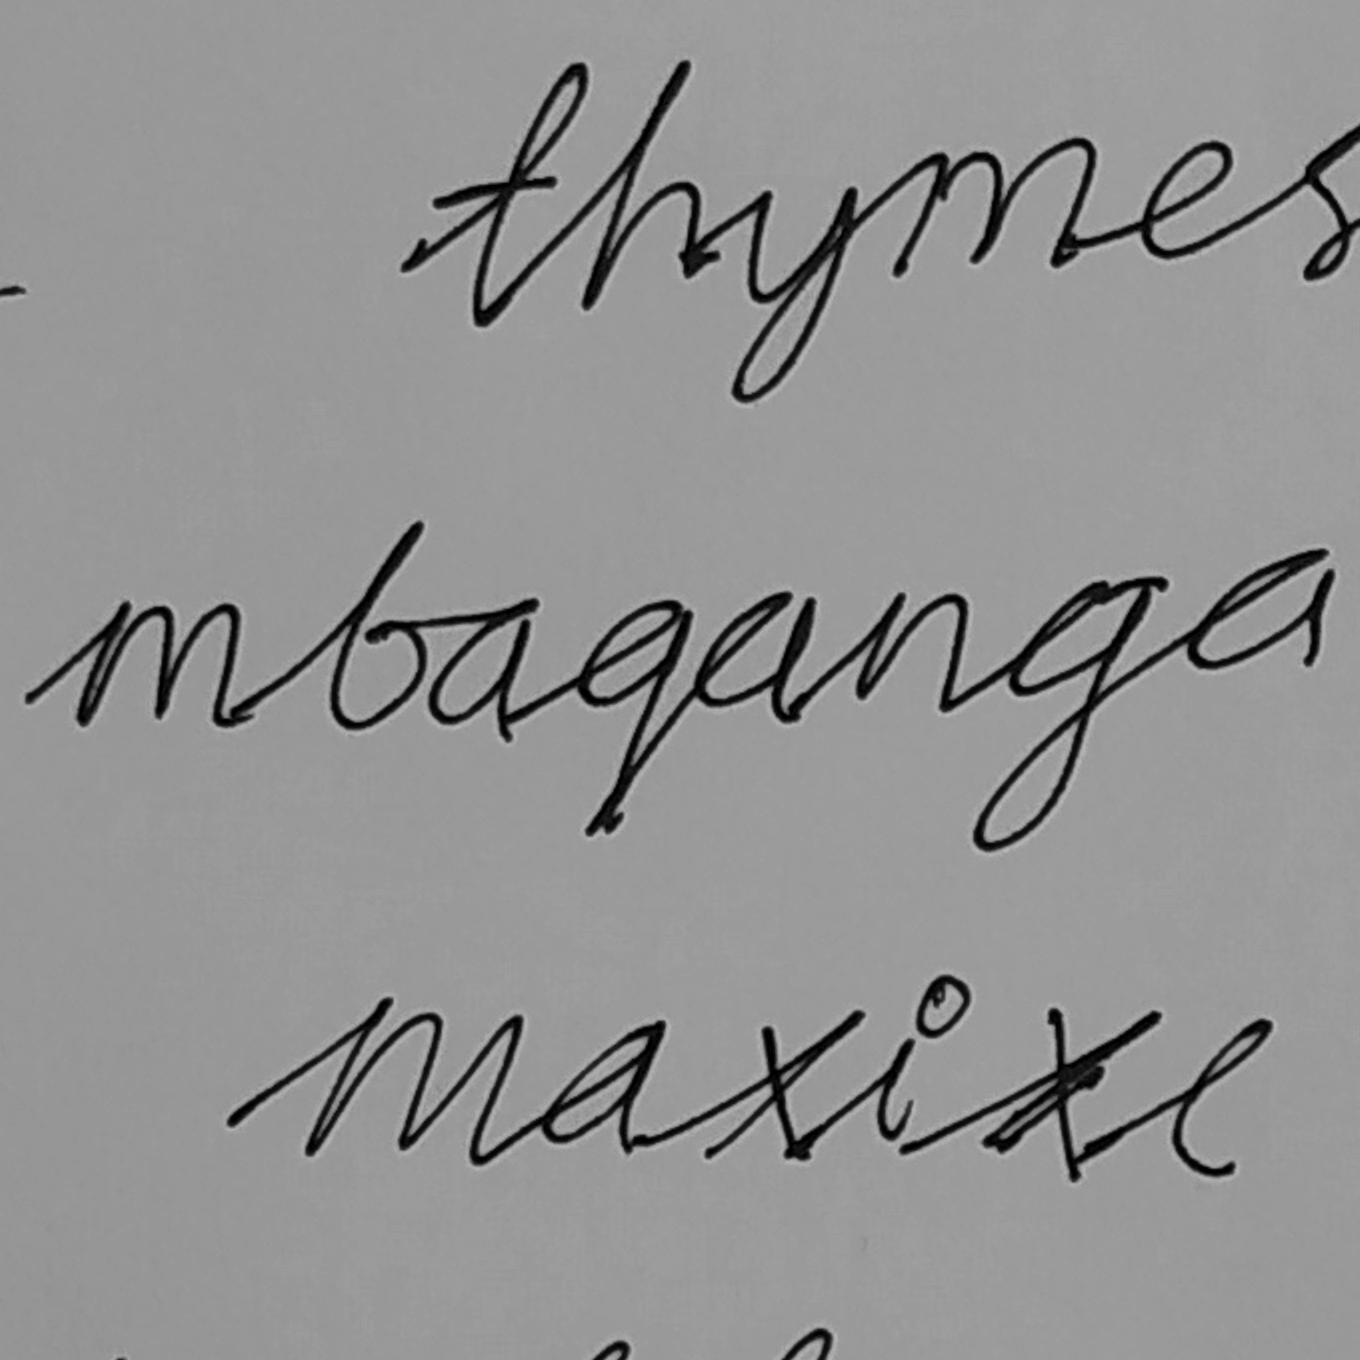a: (1179, 544, 1338, 675), (687, 584, 822, 727), (427, 594, 542, 745)
b: (325, 517, 428, 734)
g: (968, 568, 1153, 854)
m: (68, 594, 247, 739)
n: (849, 587, 974, 715)
q: (572, 593, 697, 841)
